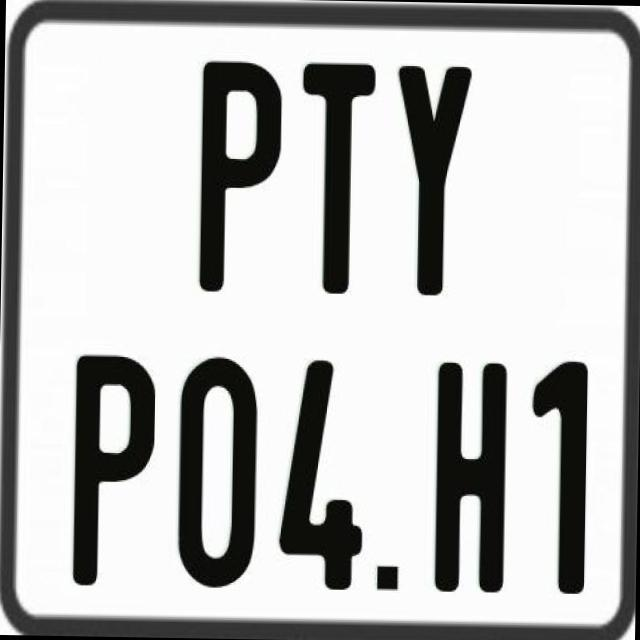0: (174, 352, 256, 584)
1: (525, 359, 585, 598)
4: (278, 359, 370, 590)
H: (430, 358, 508, 592)
P: (68, 353, 160, 594), (197, 60, 286, 300)
T: (298, 61, 380, 297)
Y: (391, 61, 471, 297)
